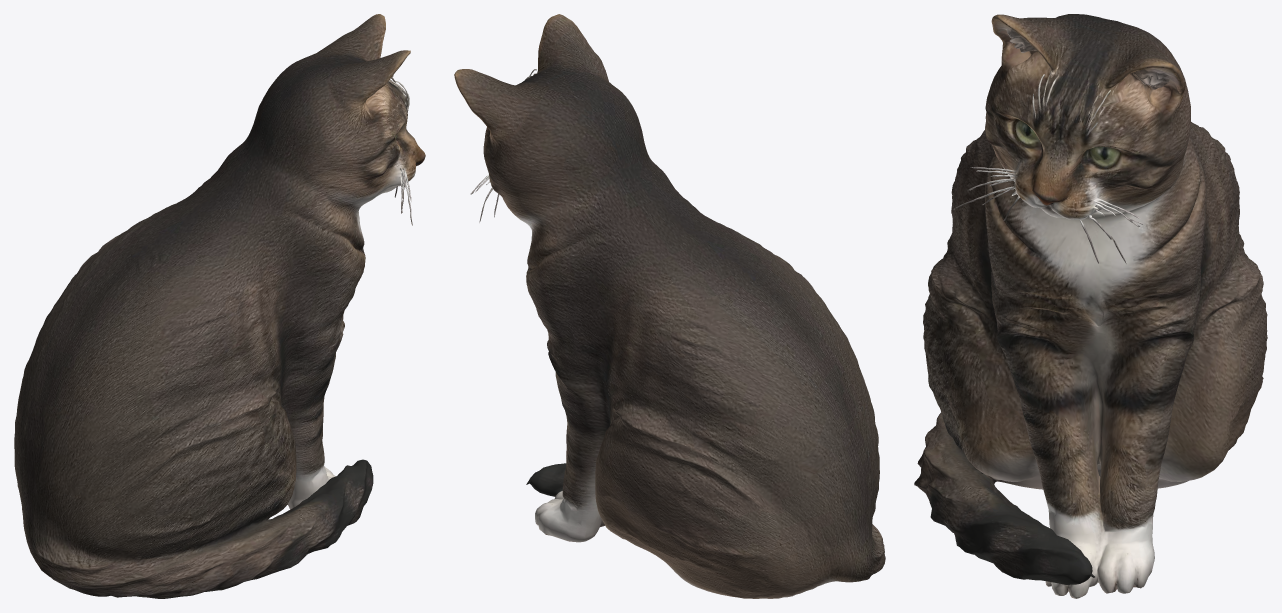
Rendered from day1.glb.
3 renders of one model, left to right at view 1: azimuth 30°, elevation 25°; view 2: azimuth 150°, elevation 25°; view 3: azimuth 270°, elevation 25°, orthographic. The views are drawn at different scales.
Visible parts, largest first — view 1: tripo_node_82fb1da7-29c3-49e9-9b63-9bd8d205b7af; view 2: tripo_node_82fb1da7-29c3-49e9-9b63-9bd8d205b7af; view 3: tripo_node_82fb1da7-29c3-49e9-9b63-9bd8d205b7af.
Boxes of the visible parts, left/top/right/bottom form: tripo_node_82fb1da7-29c3-49e9-9b63-9bd8d205b7af: left=14, top=14, right=425, bottom=598; tripo_node_82fb1da7-29c3-49e9-9b63-9bd8d205b7af: left=454, top=14, right=885, bottom=598; tripo_node_82fb1da7-29c3-49e9-9b63-9bd8d205b7af: left=914, top=14, right=1267, bottom=598.
Bounding box in the file's own units: 0.8538 × 1 × 0.531.
1 material, 1 textured.
